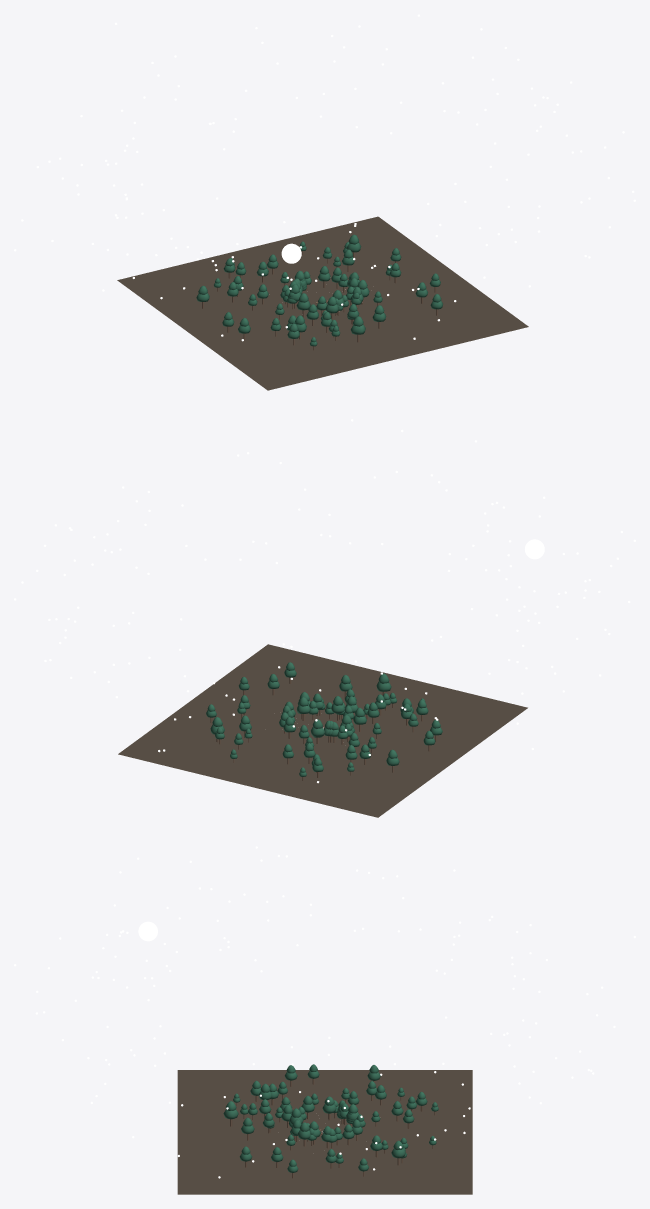
File: adi-01-naimisha.glb
The picture shows the model from 3 angles, top to bottom: view 1: azimuth 30°, elevation 25°; view 2: azimuth 150°, elevation 25°; view 3: azimuth 270°, elevation 25°; orthographic projection. The views are drawn at different scales.
Parts seen in each view (by area): view 1: GEO-ground; view 2: GEO-ground; view 3: GEO-ground.
Part boxes in pixels (box(x1,y1,x2,y2)): GEO-ground: box(117, 216, 528, 390); GEO-ground: box(118, 644, 527, 817); GEO-ground: box(177, 1070, 472, 1194).
Size of the model in its own units: 308 by 101 by 316.
